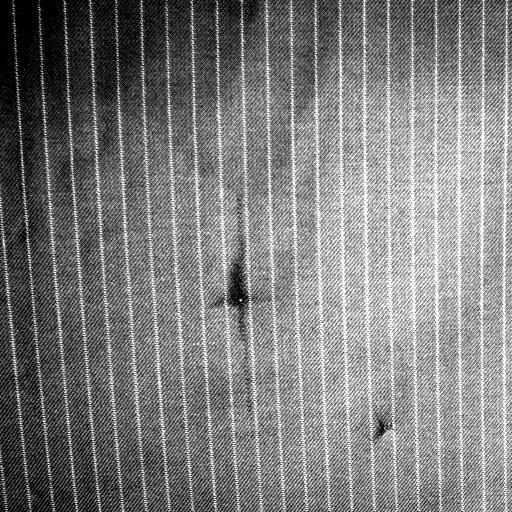fabric_hole: (224, 277, 256, 325), (376, 410, 404, 446)
